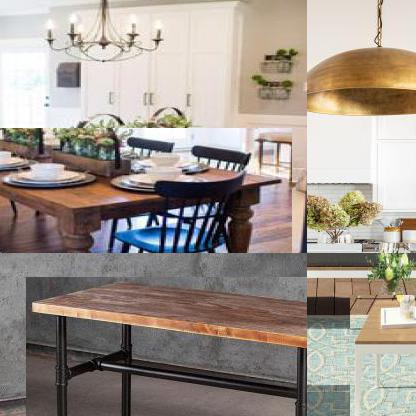table: (26, 277, 306, 415), (0, 128, 294, 252), (350, 295, 415, 415)
